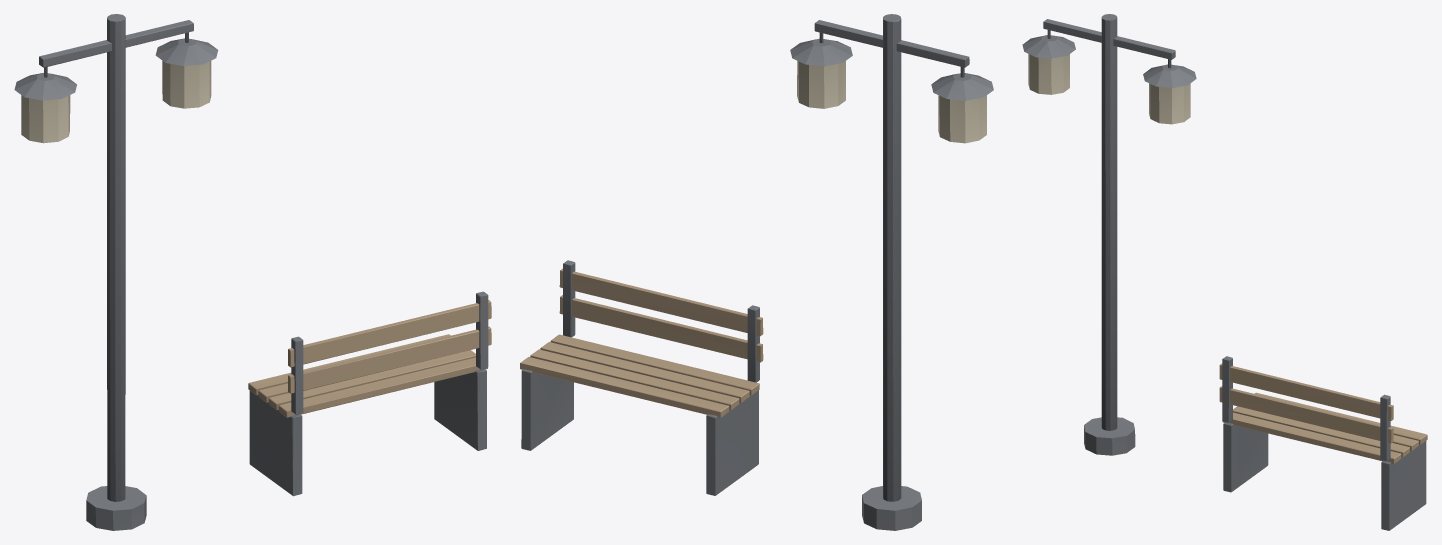
The model's file is promenade_low.glb.
The picture shows the model from 3 angles, left to right: view 1: azimuth 30°, elevation 25°; view 2: azimuth 150°, elevation 25°; view 3: azimuth 330°, elevation 25°; orthographic projection. The views are drawn at different scales.
Bounding box in the file's own units: 2.68 × 2.85 × 0.4673.
